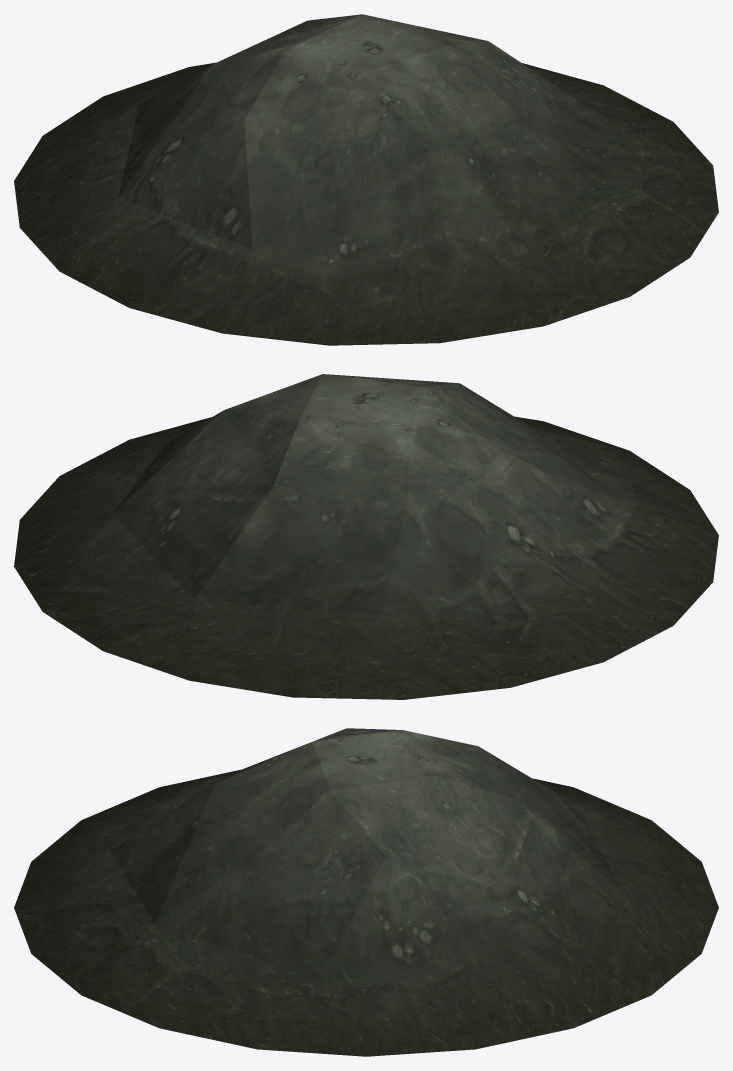
The model's file is stemple_footer_03.fbx.
3 renders of one model, top to bottom at view 1: azimuth 30°, elevation 25°; view 2: azimuth 150°, elevation 25°; view 3: azimuth 270°, elevation 25°, orthographic.
Visible parts, largest first — view 1: obj0.272; view 2: obj0.272; view 3: obj0.272.
Part boxes in pixels (x1,y1,x2,y2): obj0.272: [14, 14, 718, 345]; obj0.272: [14, 374, 718, 699]; obj0.272: [14, 728, 718, 1056].
Size of the model in its own units: 15 by 3.54 by 15.
